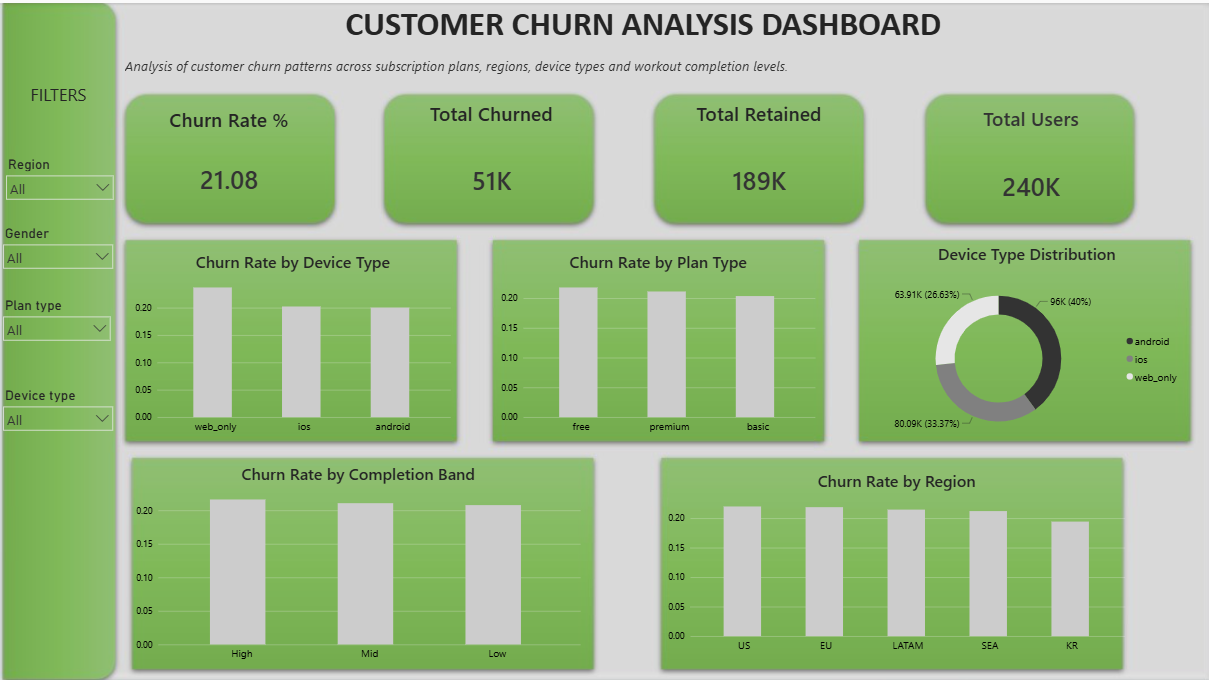

What the dashboard file says about the page in this screenshot:
{"tool":"powerbi","page":{"name":"Page 1","canvas":[1920,1080],"ordinal":0},"visuals":[{"type":"cardVisual","title":"Churn Rate %","fields":{"Data":["Sum(public vw_kpi_base.churn_rate_pct)"]},"box":[198.1,163.7,329.4,171.8],"z":0},{"type":"cardVisual","title":"Total Churned","fields":{"Data":["Sum(public vw_kpi_base.total_churned)"]},"box":[620.5,153.6,315.3,194],"z":1000},{"type":"cardVisual","title":"Total Retained","fields":{"Data":["Sum(public vw_kpi_base.total_retained)"]},"box":[1040.8,153.6,323.4,194],"z":2000},{"type":"cardVisual","title":"Total Users","fields":{"Data":["Sum(public vw_kpi_base.total_users)"]},"box":[1467.3,161.7,329.4,196],"z":3000},{"type":"clusteredColumnChart","title":"Churn Rate by Plan Type ","fields":{"Category":["public vw_analysis_base.plan_type"],"Y":["public vw_analysis_base.Churn rate %"]},"box":[778.1,377.9,529.5,323.4],"z":4000},{"type":"clusteredColumnChart","title":"Churn Rate by Region","fields":{"Category":["public vw_analysis_base.region"],"Y":["public vw_analysis_base.Churn rate %"]},"box":[1042.7,725.7,755.9,323.4],"z":5000},{"type":"columnChart","title":"Churn Rate  by Device Type","fields":{"Category":["public vw_analysis_base.device_type"],"Y":["public vw_analysis_base.Churn rate %"]},"box":[198.1,377.9,531.5,323.4],"z":6000},{"type":"donutChart","title":"Device Type Distribution","fields":{"Category":["public vw_analysis_base.device_type"],"Y":["CountNonNull(public vw_analysis_base.device_type)"]},"box":[1364.2,365.8,525.5,347.6],"z":7000},{"type":"clusteredColumnChart","title":"Churn Rate by Completion Band","fields":{"Category":["public vw_analysis_base.Completion band"],"Y":["public vw_analysis_base.Churn rate %"]},"box":[200.1,713.4,735.7,347.6],"z":8000},{"type":"slicer","fields":{"Values":["public vw_analysis_base.region"]},"box":[4,242.5,179.9,109.1],"z":9000},{"type":"slicer","fields":{"Values":["public vw_analysis_base.plan_type"]},"box":[0,464.8,179.9,143.5],"z":10000},{"type":"slicer","fields":{"Values":["public vw_analysis_base.gender"]},"box":[0,351.7,183.9,105.1],"z":11000},{"type":"slicer","fields":{"Values":["public vw_analysis_base.device_type"]},"box":[0,608.3,183.9,149.6],"z":12000},{"type":"textbox","box":[4,127.3,175.8,66.7],"z":12001},{"type":"textbox","box":[197.4,0,1640.9,127.6],"z":12002},{"type":"textbox","box":[0,758,184,303],"z":12003},{"type":"textbox","box":[100,100,300,300],"z":12004}]}

Visuals, with their boxes in screenshot pixels (x1, y1, x2, y2), scaled from the page's 1920x1080 canvas onto the 1209x680 screenshot:
"Churn Rate %" cardVisual: 125/103/332/211
"Total Churned" cardVisual: 391/97/589/219
"Total Retained" cardVisual: 655/97/859/219
"Total Users" cardVisual: 924/102/1131/225
"Churn Rate by Plan Type " clusteredColumnChart: 490/238/823/442
"Churn Rate by Region" clusteredColumnChart: 657/457/1133/661
"Churn Rate  by Device Type" columnChart: 125/238/459/442
"Device Type Distribution" donutChart: 859/230/1190/449
"Churn Rate by Completion Band" clusteredColumnChart: 126/449/589/668
slicer - public vw_analysis_base.region: 3/153/116/221
slicer - public vw_analysis_base.plan_type: 0/293/113/383
slicer - public vw_analysis_base.gender: 0/221/116/288
slicer - public vw_analysis_base.device_type: 0/383/116/477
textbox: 3/80/113/122
textbox: 124/0/1158/80
textbox: 0/477/116/668
textbox: 63/63/252/252
